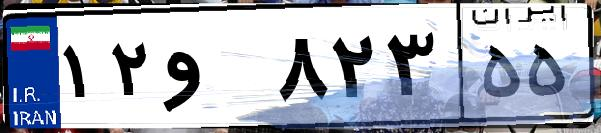1: (57, 26, 110, 100)
2: (330, 28, 385, 110), (110, 28, 158, 98)
3: (385, 28, 445, 110)
5: (475, 38, 525, 113), (525, 38, 570, 115)
8: (270, 28, 330, 110)
و: (158, 20, 270, 120)
